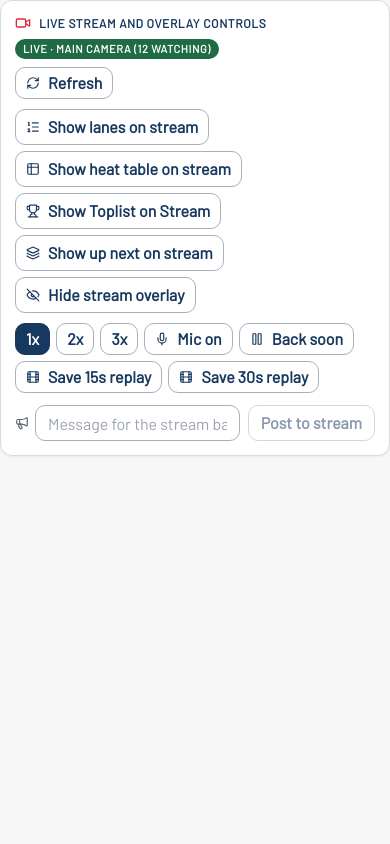
Test case: does not report a failed camera command as sent or change its pressed state
This screenshot has width=390, height=844.
What coordinates should you click on to do the following:
click the button named "Remote zoom 2x"
I would click on:
 (75, 339)
Its box is [56,323,94,355].
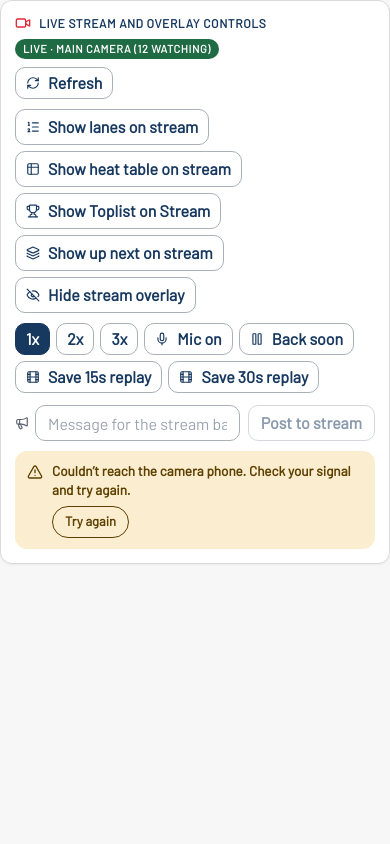
Now the message shows "Couldn’t reach the camera phone. Check your signal and try again.", box [52,462,351,498]
What coordinates should you click on to do the following:
click the button "Try again"
I would click on:
 (90, 522)
Its box is [52,506,129,538].
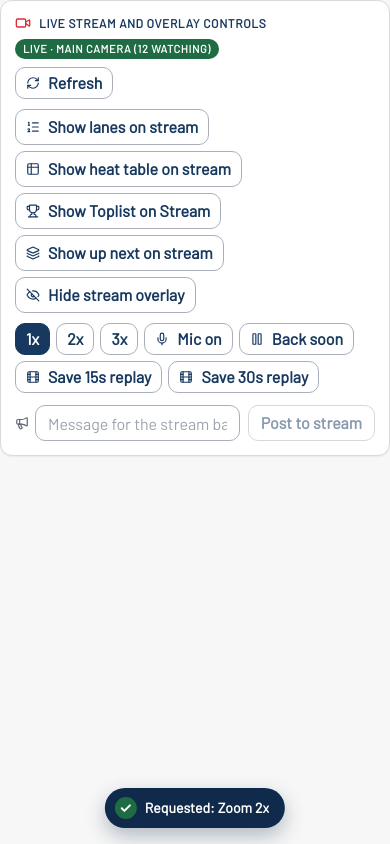
Now the message reads "Requested: Zoom 2x", box [145,799,269,816]
